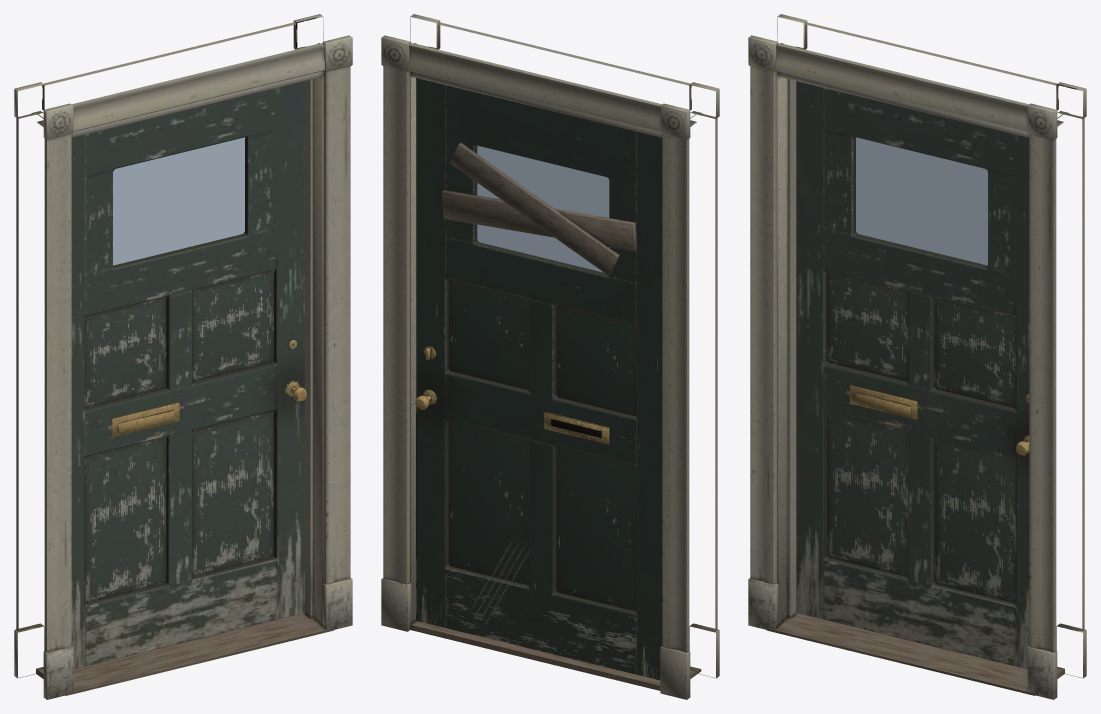
File: door.glb
The picture shows the model from 3 angles, left to right: view 1: azimuth 30°, elevation 25°; view 2: azimuth 150°, elevation 25°; view 3: azimuth 330°, elevation 25°; orthographic projection.
Parts seen in each view (by area): view 1: door_leaf, door_frame, door_window; view 2: door_leaf, door_frame, door_window; view 3: door_leaf, door_frame, door_window.
Part boxes in pixels (bbox=[...]): door_leaf: bbox=[71, 81, 307, 669]; door_frame: bbox=[14, 14, 352, 699]; door_window: bbox=[113, 137, 244, 265]; door_leaf: bbox=[415, 78, 662, 680]; door_frame: bbox=[381, 14, 719, 699]; door_window: bbox=[477, 145, 609, 272]; door_leaf: bbox=[796, 81, 1029, 669]; door_frame: bbox=[748, 14, 1086, 699]; door_window: bbox=[856, 137, 987, 265].
Bounding box in the file's own units: 1.37 × 2.52 × 0.284.
Materials: 2 (1 with a texture image).
